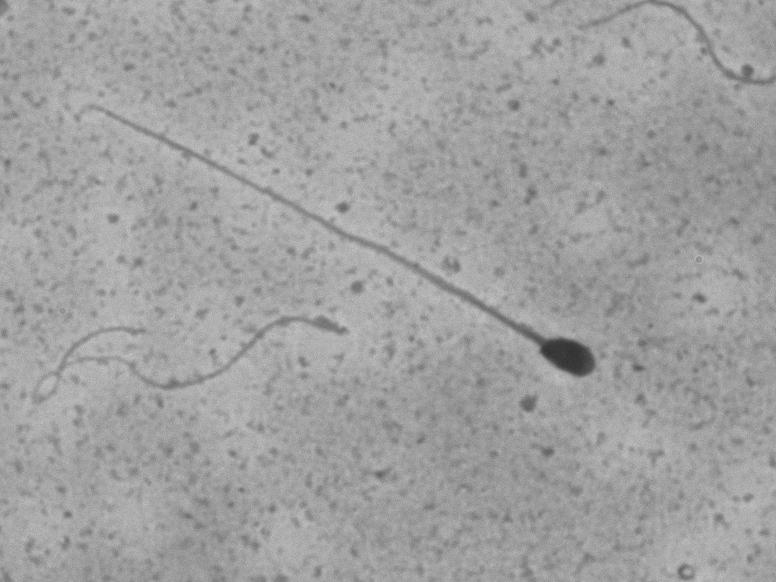Abnormal: (73, 81, 622, 401)
